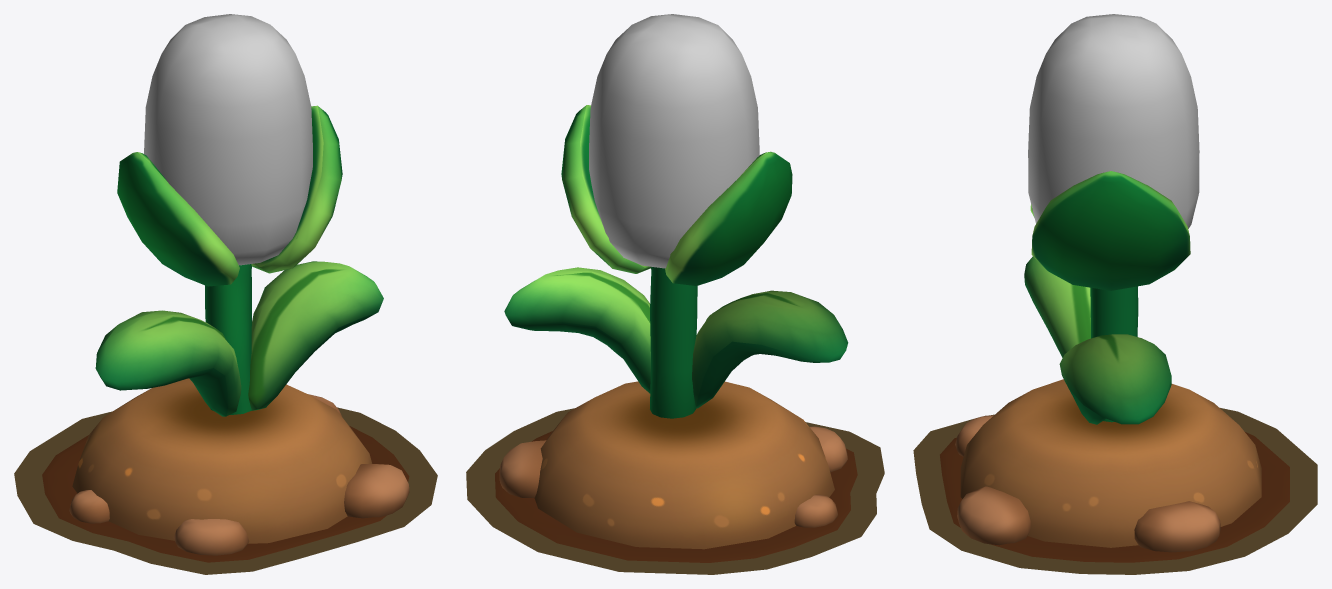
The model's file is Corn_L02.fbx.
3 renders of one model, left to right at view 1: azimuth 30°, elevation 25°; view 2: azimuth 150°, elevation 25°; view 3: azimuth 270°, elevation 25°, orthographic.
Parts seen in each view (by area): view 1: CornL02_body, Corn02SDW; view 2: CornL02_body, Corn02SDW; view 3: CornL02_body, Corn02SDW.
Part boxes in pixels (x1,y1,x2,y2): CornL02_body: [42, 14, 409, 562]; Corn02SDW: [14, 407, 437, 574]; CornL02_body: [495, 14, 857, 562]; Corn02SDW: [466, 408, 884, 574]; CornL02_body: [940, 14, 1289, 562]; Corn02SDW: [913, 408, 1317, 574].
Size of the model in its own units: 111 by 132 by 104.
